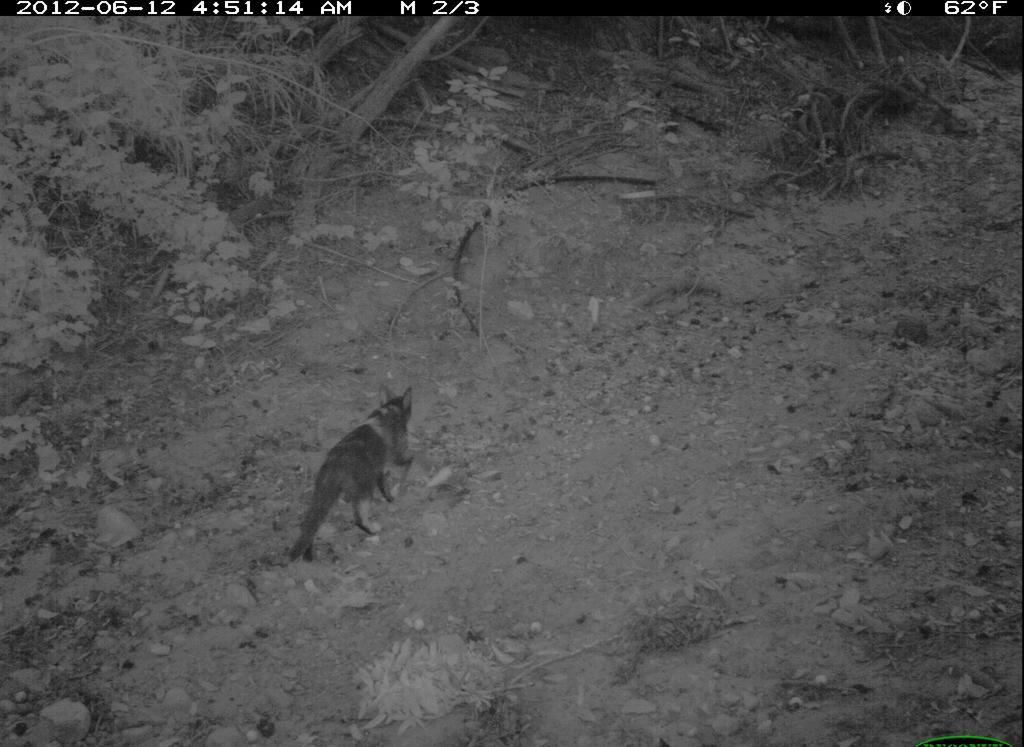cat: (291, 381, 429, 574)
